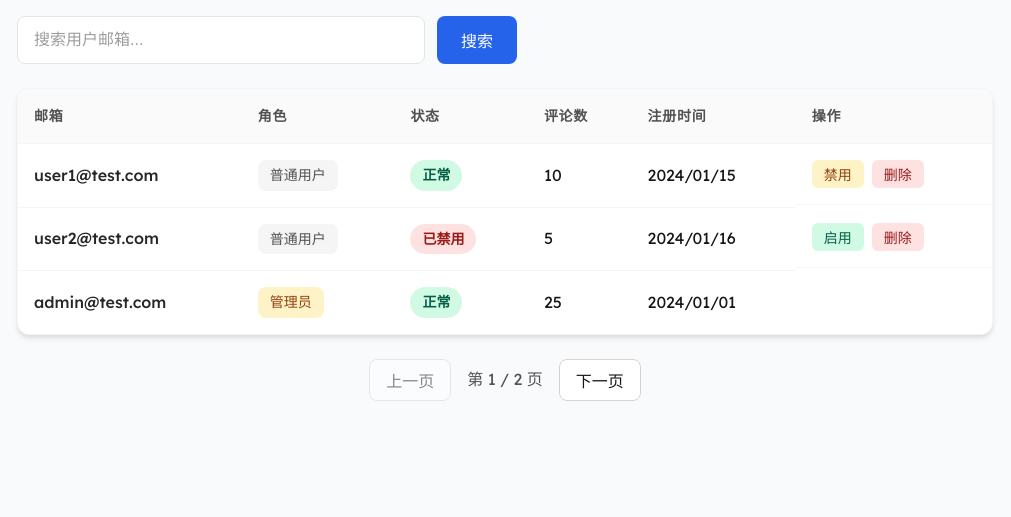
Test case: UserManagement › displays error on delete failure
The image size is (1011, 517).
Check: the text "user1@test.com" is shown, box [18, 144, 242, 207]
Click the button "删除" in the row of "user1@test.com": click(898, 174) [872, 160, 924, 188]
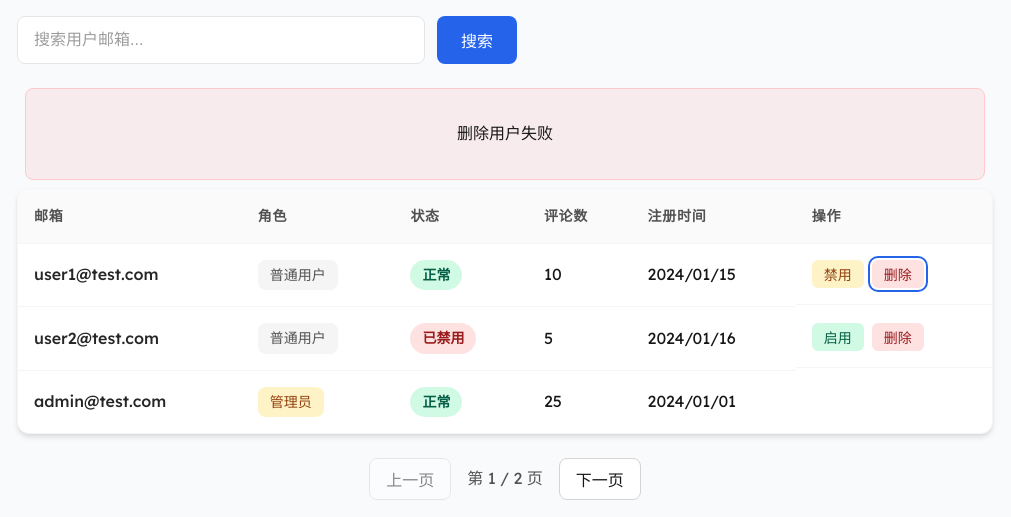
Check: the text "删除用户失败" is shown, box [25, 88, 985, 180]
